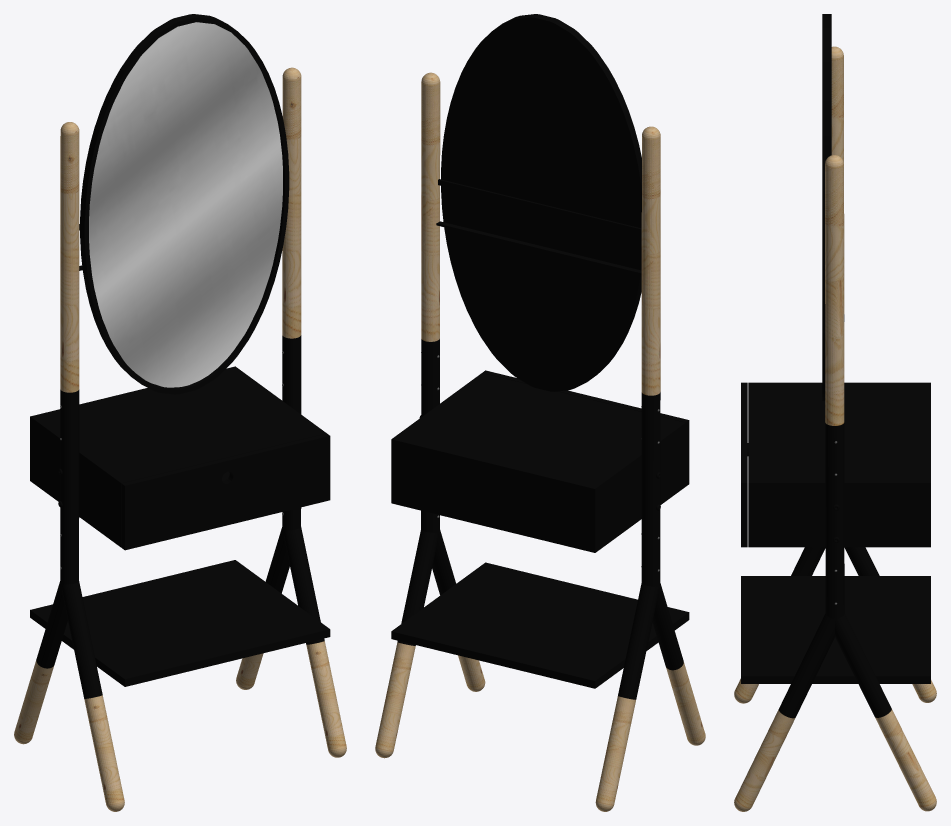
Rendered from EspelhoEMA.glb.
3 renders of one model, left to right at view 1: azimuth 30°, elevation 25°; view 2: azimuth 150°, elevation 25°; view 3: azimuth 270°, elevation 25°, orthographic.
Parts seen in each view (by area): view 1: Circle, Gaveta, Prateleira, EstPreta, EstMadeira, Cylinder, Pes; view 2: Cylinder, Gaveta, Prateleira, EstPreta, EstMadeira, Pes, Cube.001, Cube; view 3: Gaveta, Prateleira, EstPreta, EstMadeira, Pes, Cylinder.
Part boxes in pixels (left/top/right/bottom): Circle: left=89, top=22, right=282, bottom=387; Gaveta: left=30, top=366, right=330, bottom=550; Prateleira: left=30, top=560, right=330, bottom=686; EstPreta: left=36, top=335, right=324, bottom=698; EstMadeira: left=60, top=67, right=301, bottom=392; Cylinder: left=80, top=14, right=289, bottom=394; Pes: left=14, top=641, right=346, bottom=811; Cylinder: left=441, top=14, right=641, bottom=391; Gaveta: left=391, top=370, right=689, bottom=552; Prateleira: left=391, top=562, right=689, bottom=688; EstPreta: left=397, top=339, right=683, bottom=699; EstMadeira: left=421, top=72, right=660, bottom=395; Pes: left=375, top=642, right=705, bottom=811; Cube.001: left=438, top=179, right=641, bottom=234; Cube: left=436, top=221, right=641, bottom=275; Gaveta: left=741, top=382, right=930, bottom=547; Prateleira: left=741, top=576, right=930, bottom=683; EstPreta: left=778, top=314, right=891, bottom=718; EstMadeira: left=825, top=46, right=844, bottom=425; Pes: left=734, top=678, right=936, bottom=811; Cylinder: left=822, top=14, right=831, bottom=400.
Bounding box in the file's own units: 0.5861 × 1.71 × 0.4274.
Materials: 4 (3 with a texture image).
